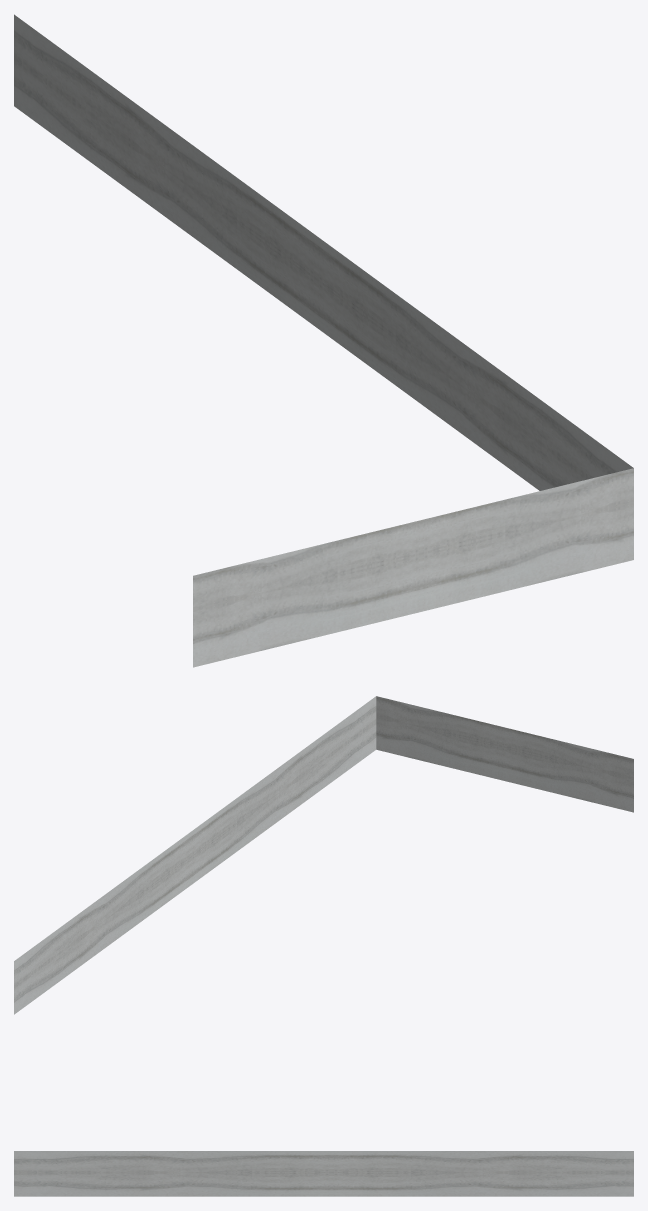
Rendered from BP_BackplashSwedenVadretPolished.glb.
3 views of the same model, one above another, from view 1: azimuth 30°, elevation 25°; view 2: azimuth 150°, elevation 25°; view 3: azimuth 270°, elevation 25° (orthographic). The views are drawn at different scales.
Visible parts, largest first — view 1: Sweden_Vadret_Polished; view 2: Sweden_Vadret_Polished; view 3: Sweden_Vadret_Polished.
Boxes of the visible parts, <box> form: Sweden_Vadret_Polished: <box>14,14,633,667</box>; Sweden_Vadret_Polished: <box>14,696,633,1014</box>; Sweden_Vadret_Polished: <box>14,1151,633,1196</box>.
Bounding box in the file's own units: 0.955 × 0.19 × 2.32.
1 material, 1 textured.
